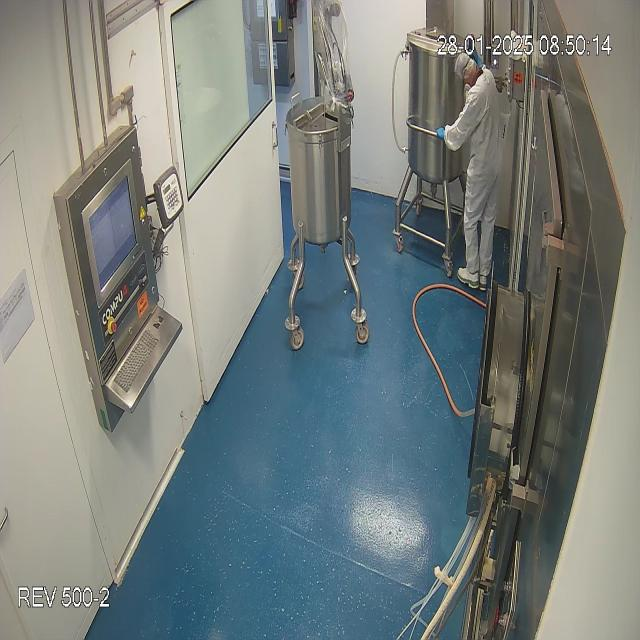bota: (454, 264, 493, 293)
pessoa: (435, 53, 508, 298)
touca: (454, 52, 483, 92)
